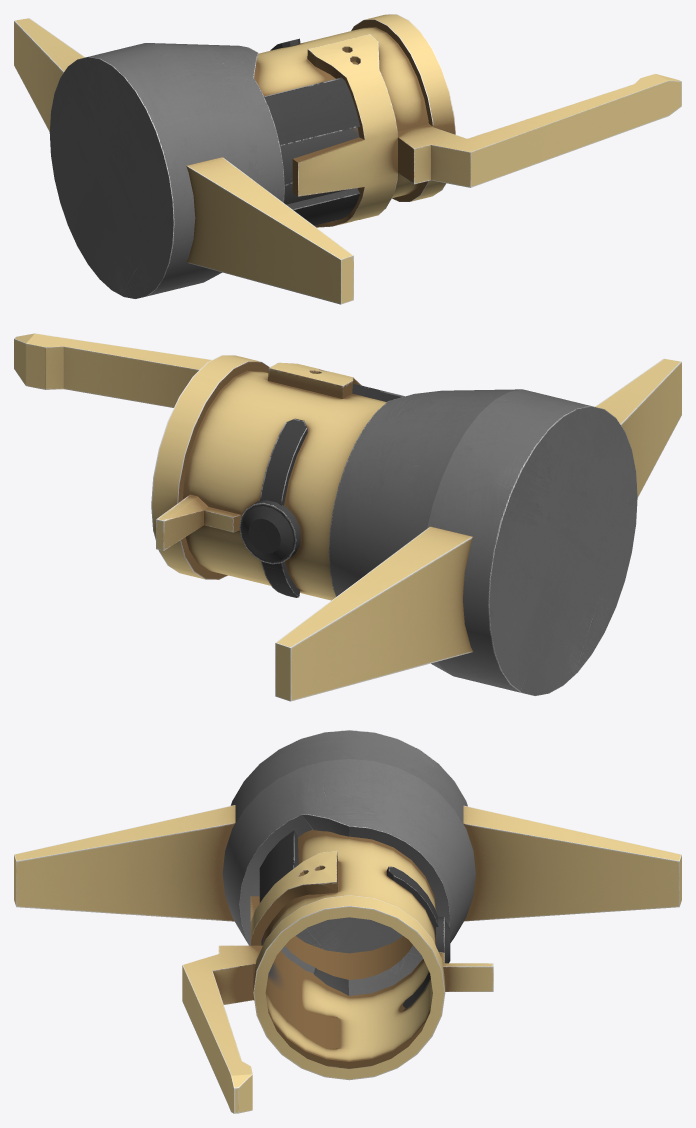
File: guard_18_r_b.glb
3 views of the same model, one above another, from view 1: azimuth 30°, elevation 25°; view 2: azimuth 150°, elevation 25°; view 3: azimuth 270°, elevation 25° (orthographic). The views are drawn at different scales.
Visible parts, largest first — view 1: guard_18_r_b_lod0; view 2: guard_18_r_b_lod0; view 3: guard_18_r_b_lod0.
Boxes of the visible parts, bbox=[...] form: guard_18_r_b_lod0: bbox=[14, 14, 681, 304]; guard_18_r_b_lod0: bbox=[14, 333, 681, 701]; guard_18_r_b_lod0: bbox=[14, 730, 681, 1113].
Size of what is drawn, in the model's own units: 0.0879 by 0.0367 by 0.0968.
1 material, 1 textured.
